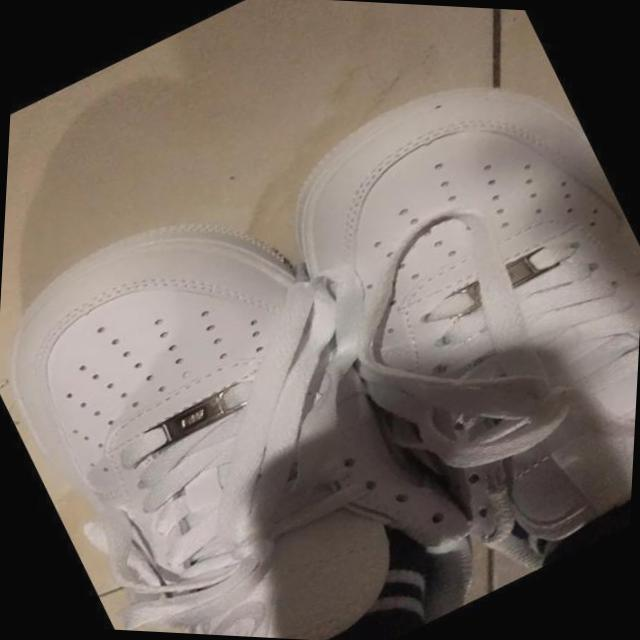nike_fake_airforce: (0, 139, 522, 640), (233, 19, 640, 612)
